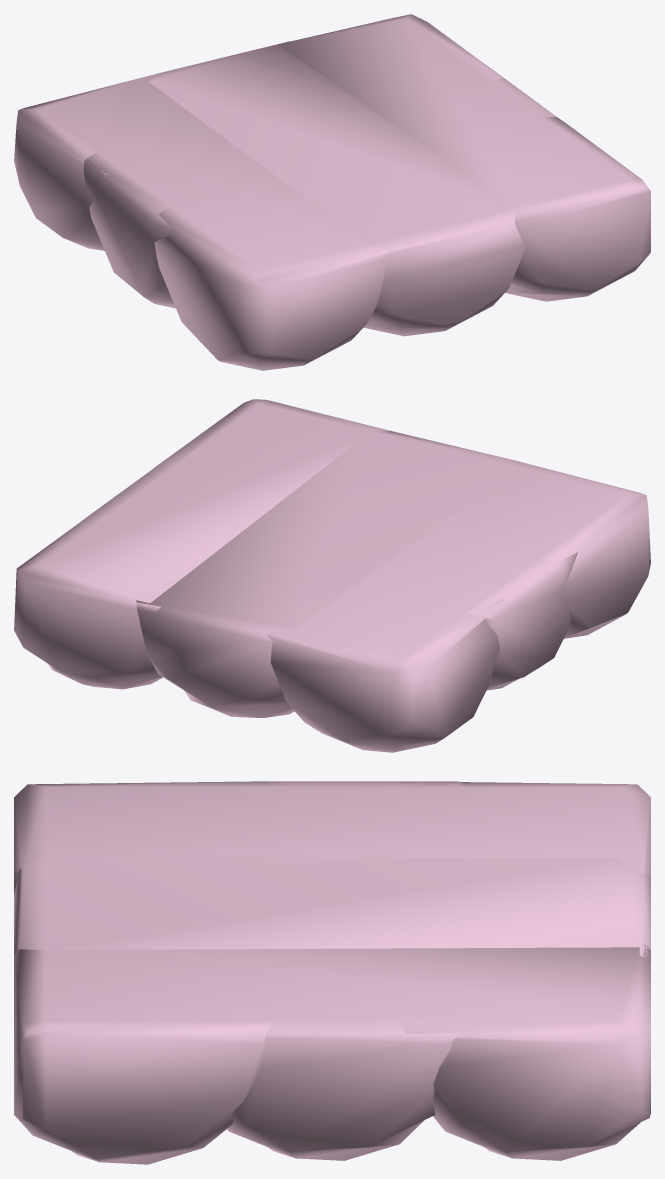
File: Cloud_mp.fbx
The picture shows the model from 3 angles, top to bottom: view 1: azimuth 30°, elevation 25°; view 2: azimuth 150°, elevation 25°; view 3: azimuth 270°, elevation 25°; orthographic projection. The views are drawn at different scales.
Parts seen in each view (by area): view 1: cloud; view 2: cloud; view 3: cloud.
Boxes of the visible parts, x1,y1,x2,y2 form: cloud: [14, 14, 650, 370]; cloud: [14, 399, 650, 752]; cloud: [14, 781, 650, 1164].
Bounding box in the file's own units: 557 × 157 × 577.
